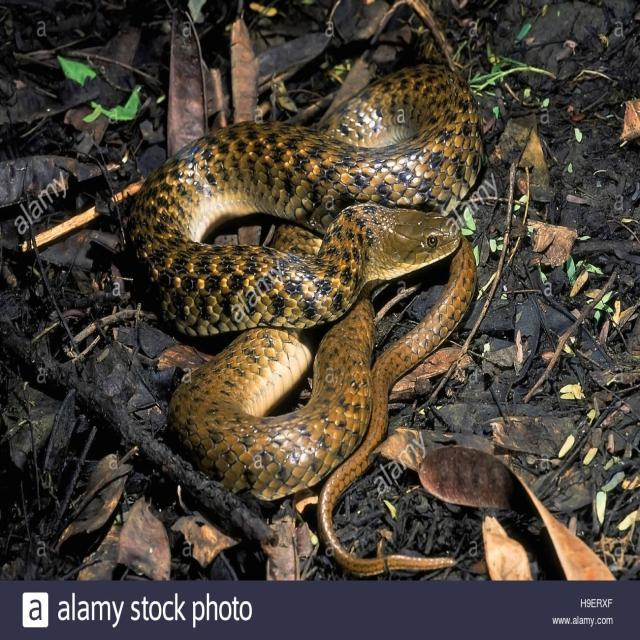Snake: (122, 56, 483, 574)
